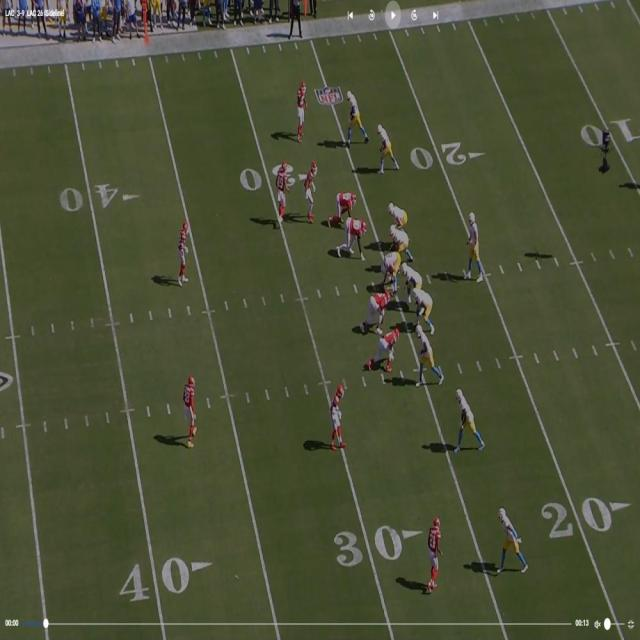center: (380, 251, 400, 281)
db: (427, 517, 443, 587), (186, 372, 196, 448), (331, 383, 342, 451), (177, 222, 189, 282), (298, 83, 309, 137)
lb: (276, 166, 292, 224), (303, 161, 318, 211)
qb: (469, 210, 480, 276)
skill: (496, 511, 526, 573), (455, 392, 477, 450), (347, 91, 366, 139), (417, 324, 435, 374), (376, 120, 393, 171)
